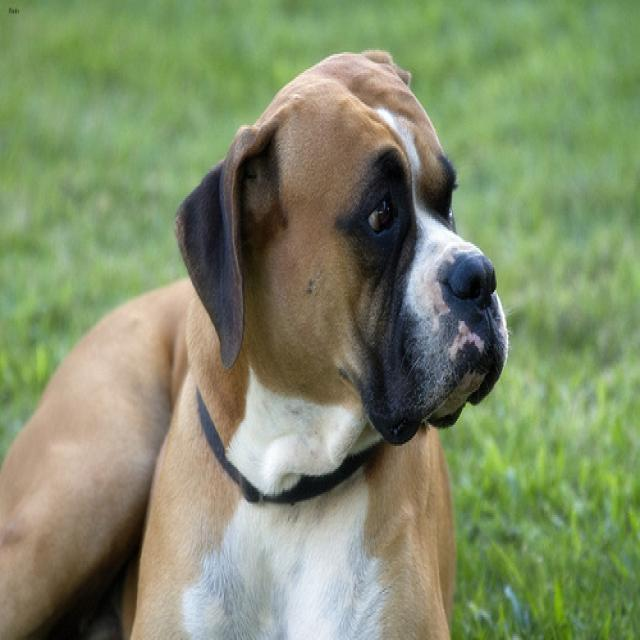dog-boxer: (1, 42, 515, 636)
